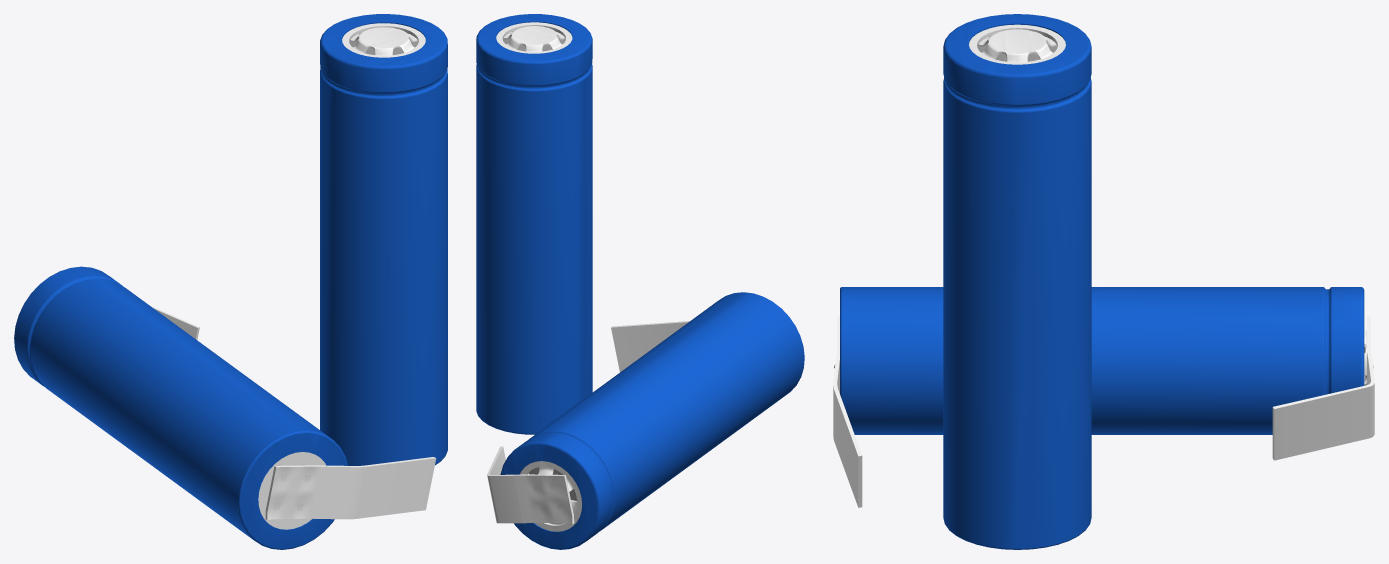
The model's file is lithium_ion_18650_cell.glb.
The picture shows the model from 3 angles, left to right: view 1: azimuth 30°, elevation 25°; view 2: azimuth 150°, elevation 25°; view 3: azimuth 270°, elevation 25°; orthographic projection. The views are drawn at different scales.
Parts seen in each view (by area): view 1: Battery_Shield_v20:_Component2:1:_Placa:1:_Body2.001_Default, Battery_Shield_v20:_Component2:1:_Placa:1:_Body2.003_Default, Cube, Battery_Shield_v20:_Component2:1:_Placa:1:_Body2.001_Materia (×2), Battery_Shield_v20:_Component2:1:_Placa:1:_Body2.003_Materia; view 2: Battery_Shield_v20:_Component2:1:_Placa:1:_Body2.001_Default, Battery_Shield_v20:_Component2:1:_Placa:1:_Body2.003_Default, Cube, Battery_Shield_v20:_Component2:1:_Placa:1:_Body2.001_Materia (×2), Battery_Shield_v20:_Component2:1:_Placa:1:_Body2.003_Materia; view 3: Battery_Shield_v20:_Component2:1:_Placa:1:_Body2.001_Default, Battery_Shield_v20:_Component2:1:_Placa:1:_Body2.003_Default, Cube, Battery_Shield_v20:_Component2:1:_Placa:1:_Body2.001_Materia (×2).
Boxes of the visible parts, x1,y1,x2,y2 form: Battery_Shield_v20:_Component2:1:_Placa:1:_Body2.001_Default: (320, 14, 447, 465); Battery_Shield_v20:_Component2:1:_Placa:1:_Body2.003_Default: (14, 266, 347, 549); Cube: (151, 306, 436, 520); Battery_Shield_v20:_Component2:1:_Placa:1:_Body2.001_Materia (×2): (342, 23, 425, 57); Battery_Shield_v20:_Component2:1:_Placa:1:_Body2.003_Materia: (258, 452, 326, 529); Battery_Shield_v20:_Component2:1:_Placa:1:_Body2.001_Default: (476, 14, 592, 434); Battery_Shield_v20:_Component2:1:_Placa:1:_Body2.003_Default: (500, 292, 804, 549); Cube: (487, 321, 689, 524); Battery_Shield_v20:_Component2:1:_Placa:1:_Body2.001_Materia (×2): (496, 22, 572, 53); Battery_Shield_v20:_Component2:1:_Placa:1:_Body2.003_Materia: (519, 461, 581, 531); Battery_Shield_v20:_Component2:1:_Placa:1:_Body2.001_Default: (943, 14, 1091, 549); Battery_Shield_v20:_Component2:1:_Placa:1:_Body2.003_Default: (840, 287, 1364, 434); Cube: (833, 315, 1374, 507); Battery_Shield_v20:_Component2:1:_Placa:1:_Body2.001_Materia (×2): (969, 24, 1065, 64).
Bounding box in the file's own units: 0.0627 × 0.0899 × 0.0916.
